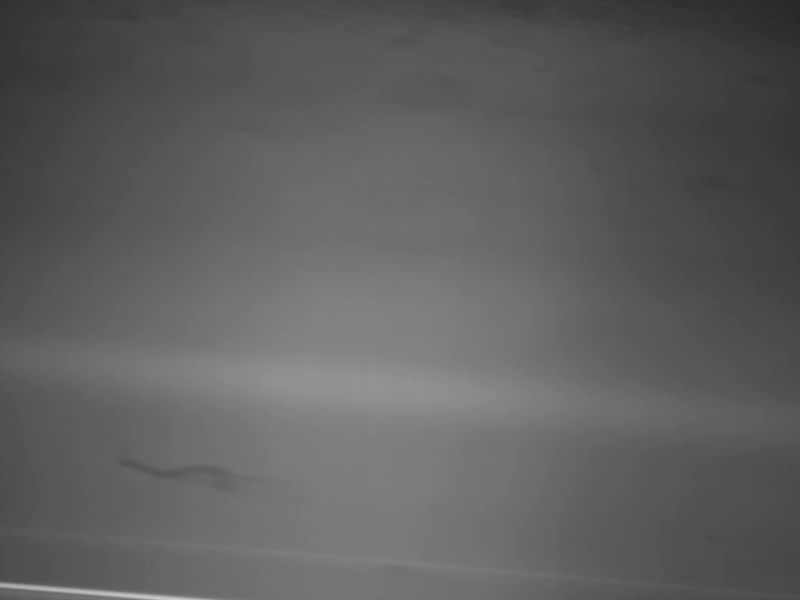fiber: (116, 453, 294, 501)
